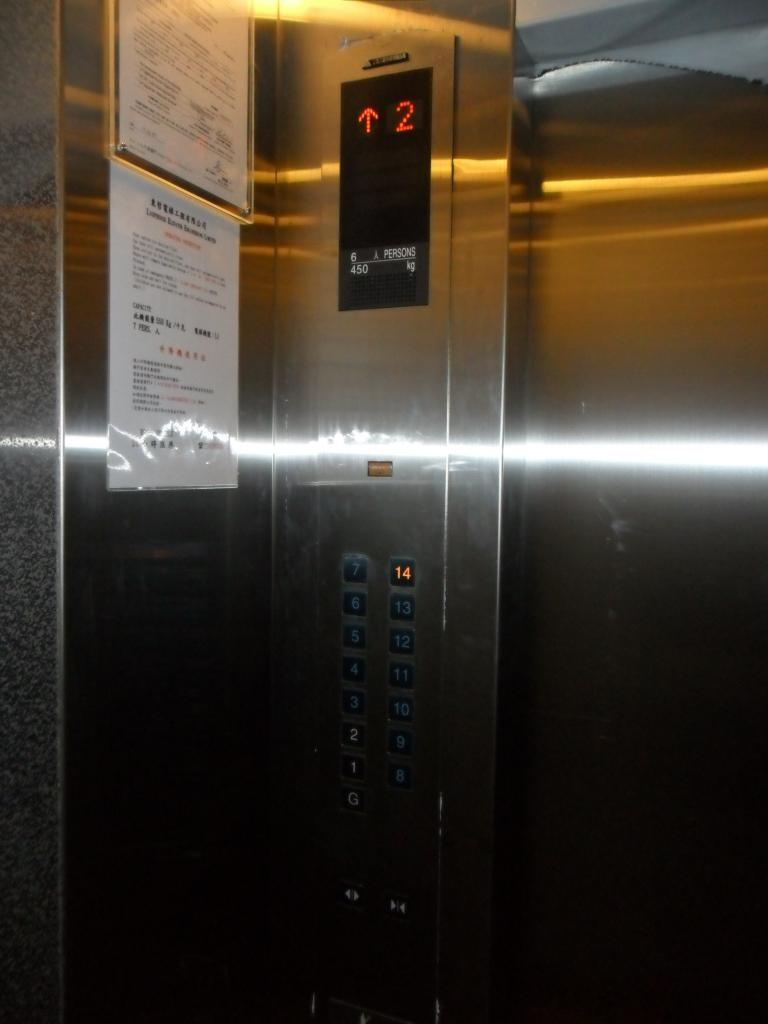1: (339, 749, 368, 782)
10: (386, 692, 415, 725)
11: (386, 658, 415, 691)
12: (387, 624, 416, 657)
13: (388, 590, 417, 623)
14: (388, 556, 417, 589)
2: (339, 718, 368, 751)
3: (339, 686, 368, 719)
4: (339, 653, 368, 686)
5: (340, 620, 369, 653)
6: (341, 586, 370, 619)
7: (341, 554, 370, 587)
8: (385, 758, 414, 791)
9: (386, 724, 415, 757)
G: (339, 781, 368, 814)
alarm: (366, 459, 395, 479)
close: (382, 892, 410, 919)
led: (337, 69, 432, 314)
open: (337, 882, 365, 909)
